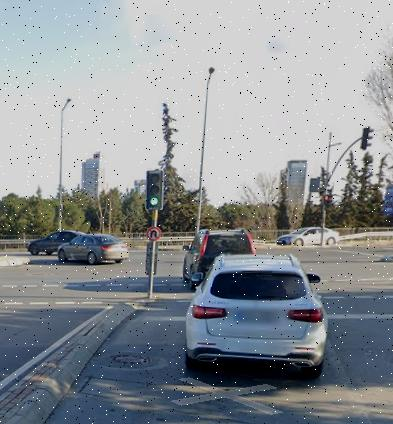greenlight: (147, 170, 163, 211)
